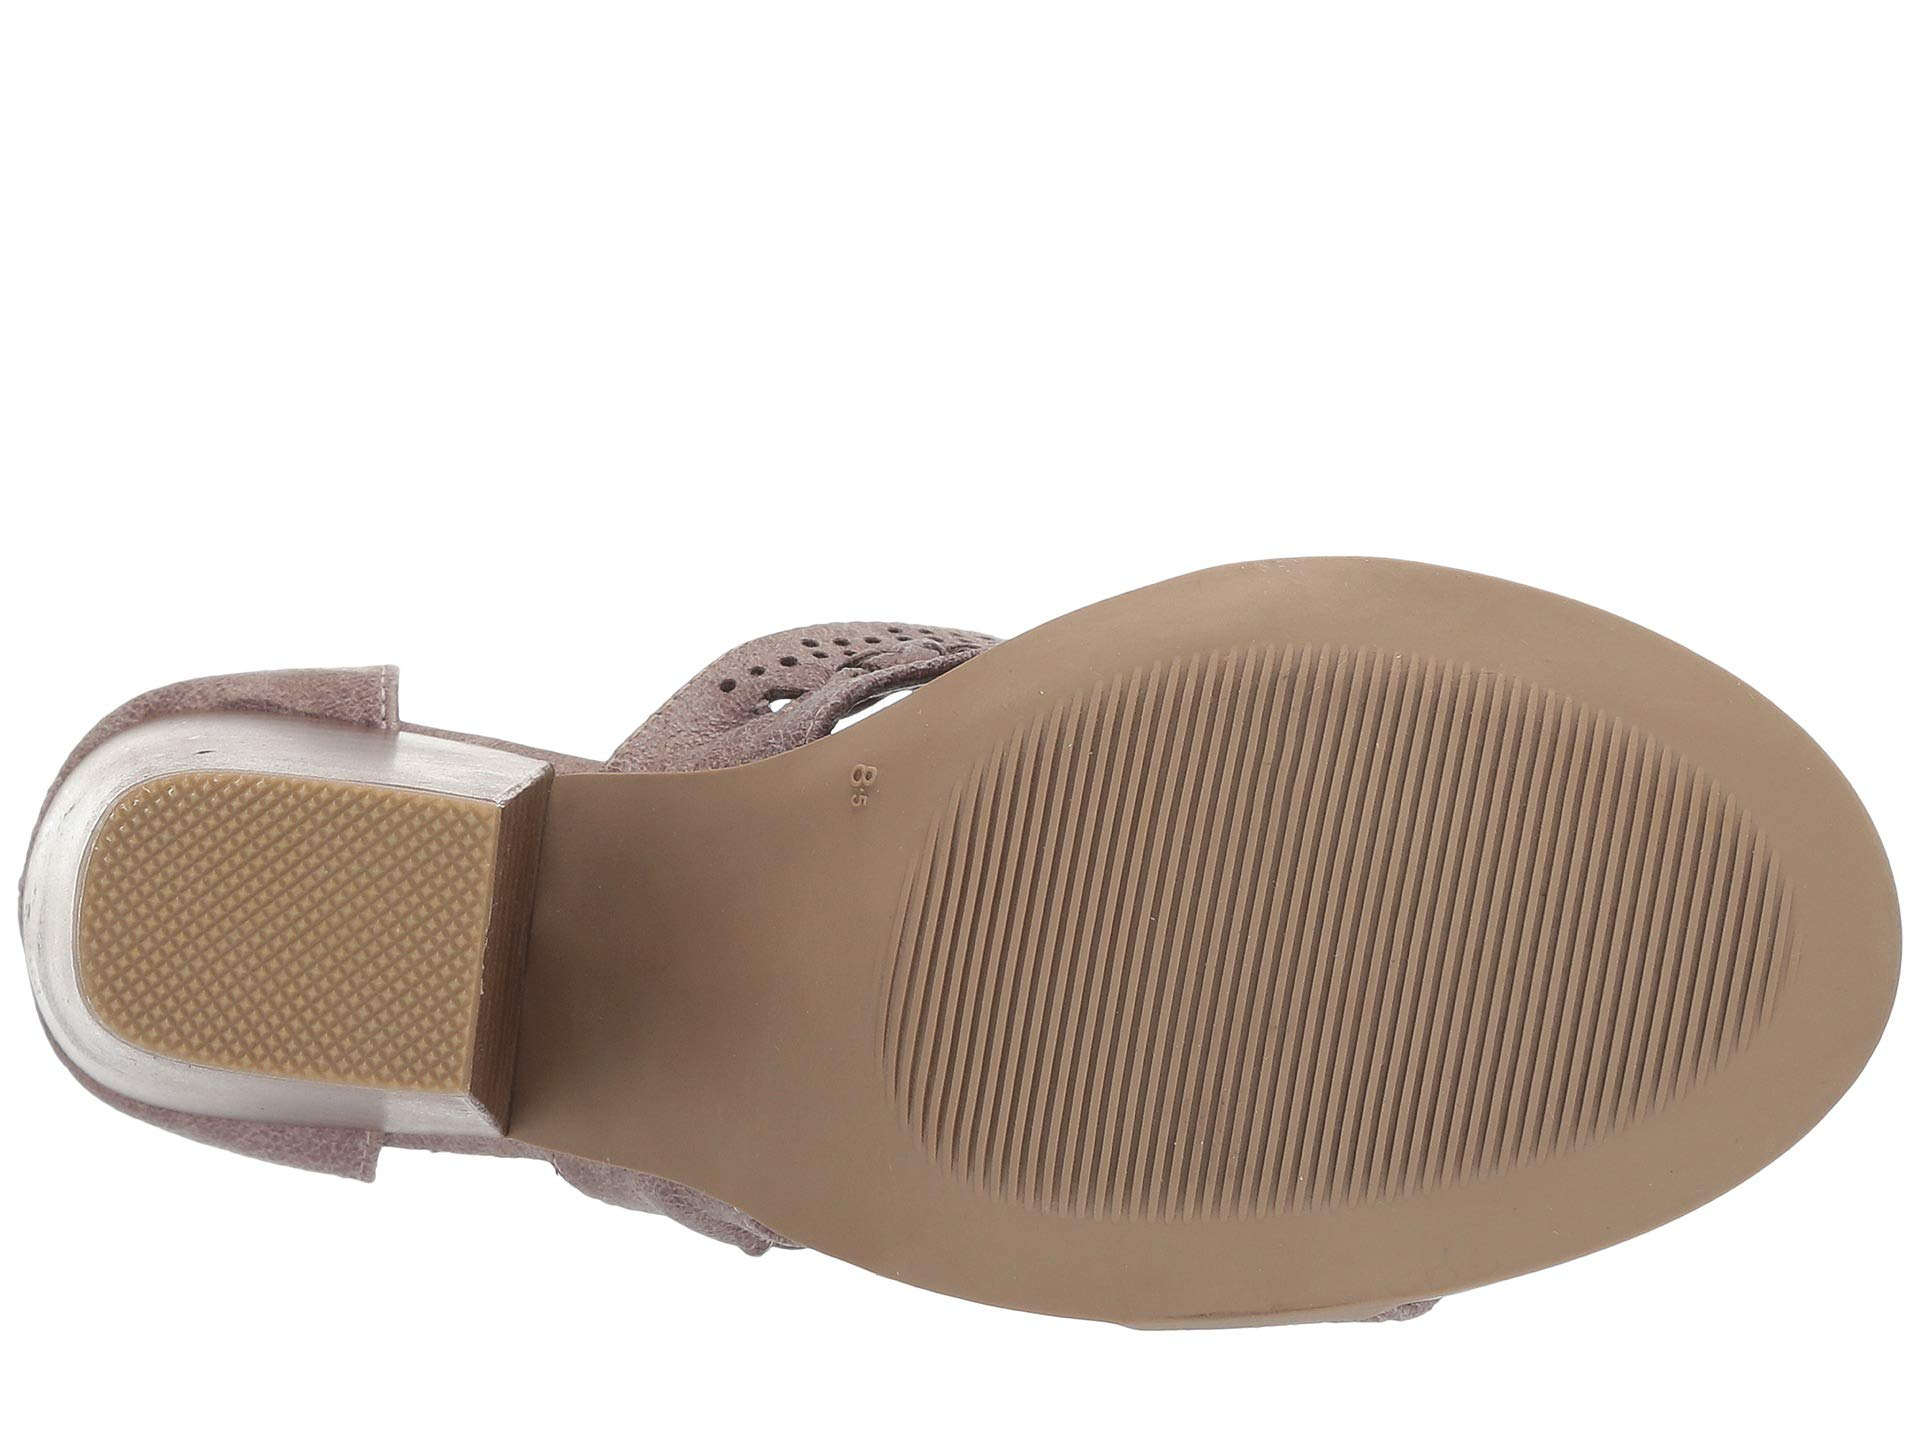line: (1075, 803, 1417, 1100)
